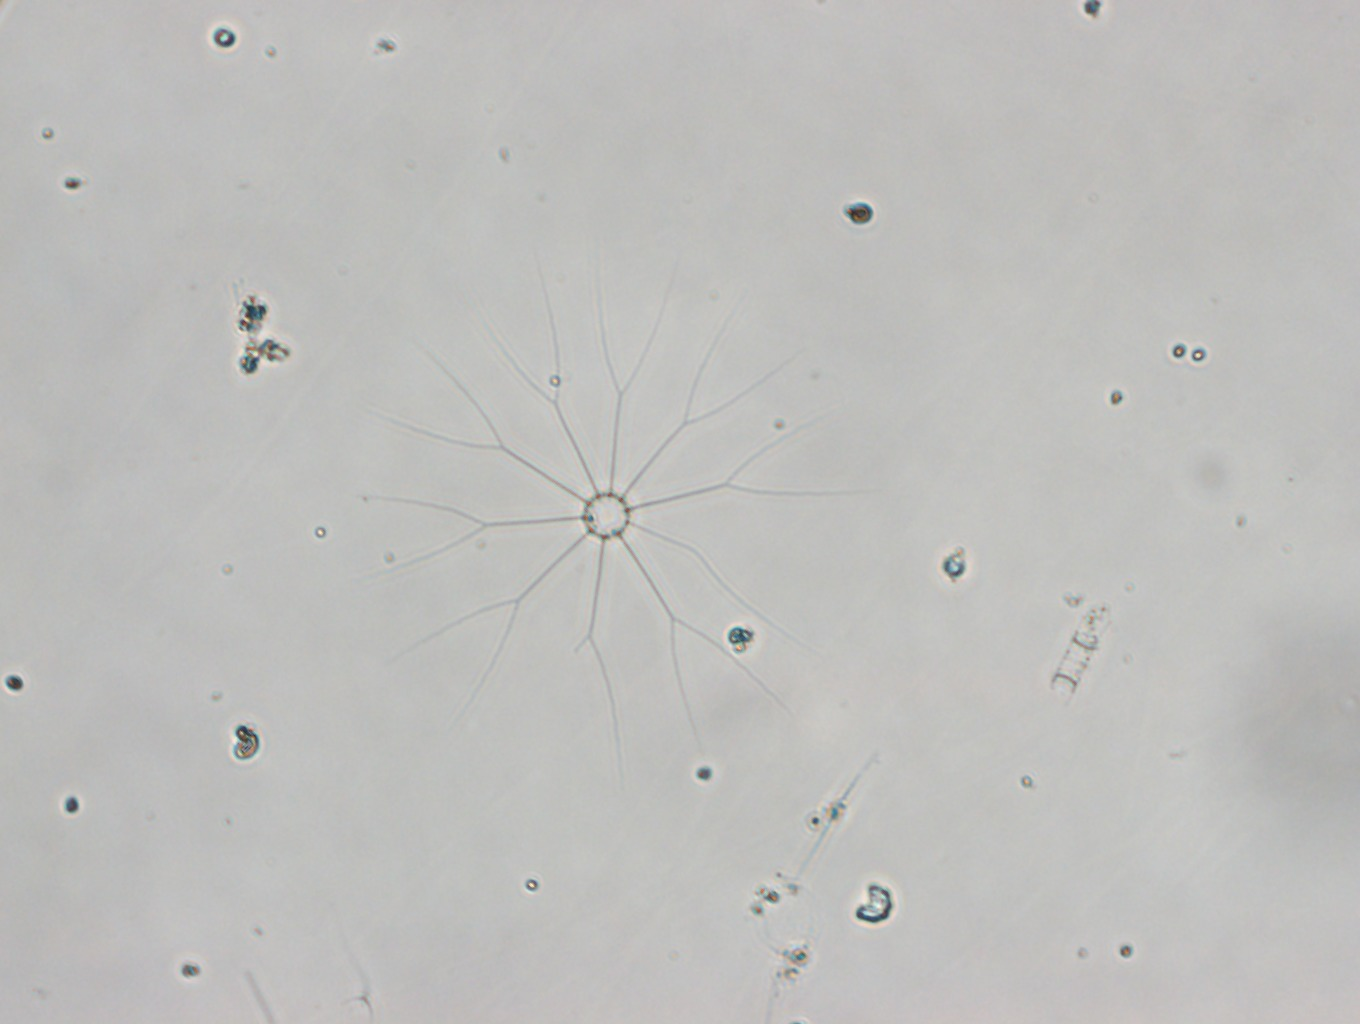bacteriastrum: (364, 246, 867, 780)
